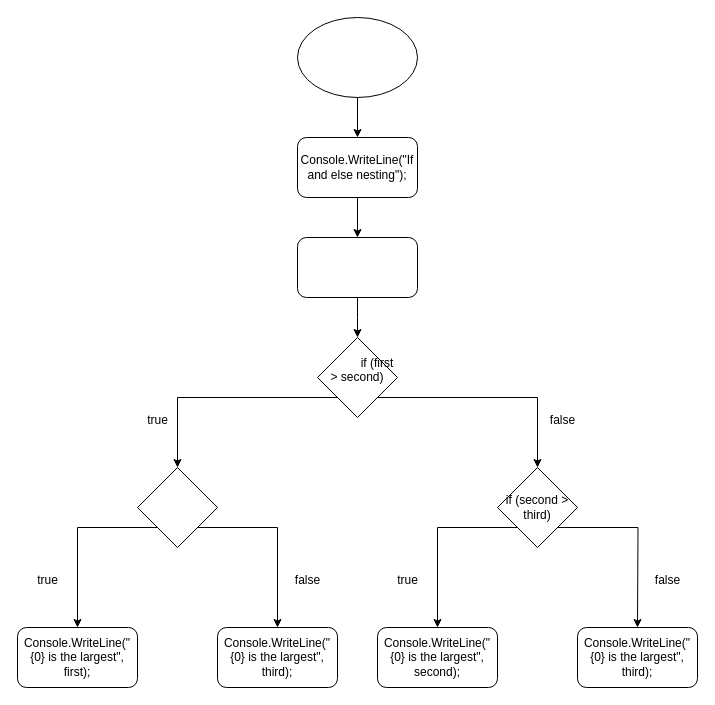
The diagram is 715 pixels wide and 705 high, and some of its shapes have lost their labels. Here are the shapes that lost their labels. From the top down, the box of each, then its label:
(296, 16, 418, 98): Start
(296, 236, 418, 298): int first = 7, second = -23, third = 13;
(136, 466, 218, 548): if (firstNumber > third)
